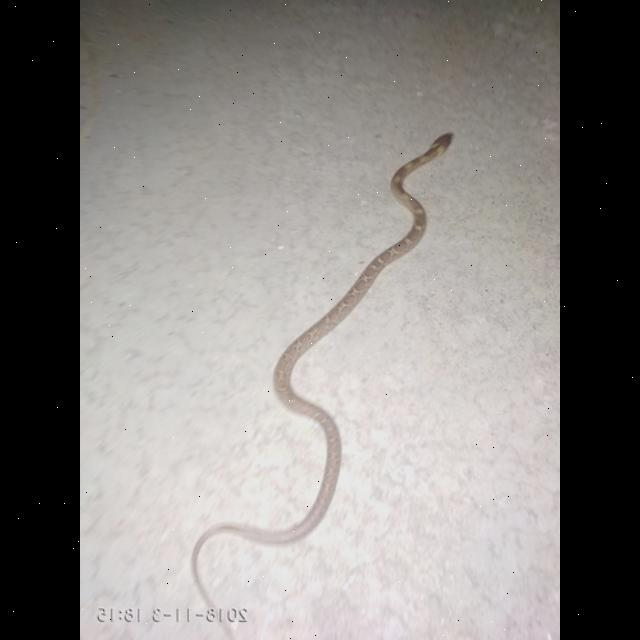snake: (178, 120, 466, 630)
